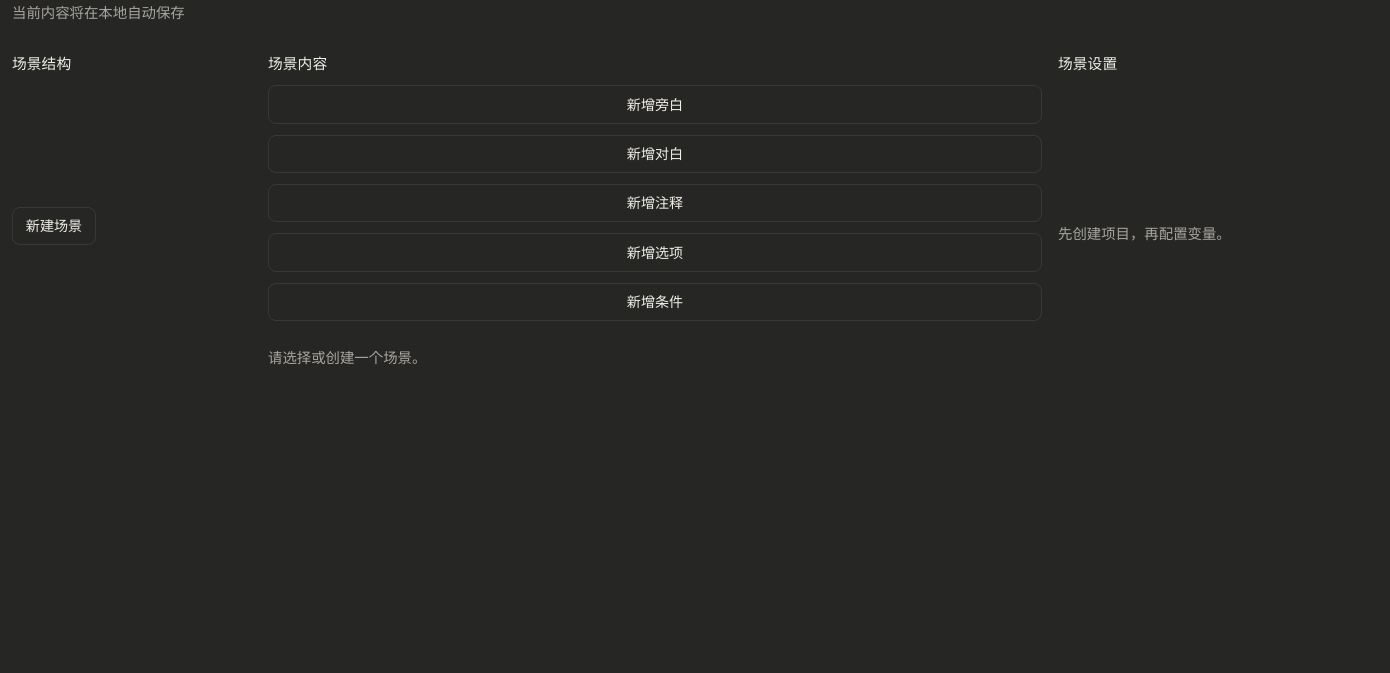
Test: EditorPage › 允许创建场景并追加旁白块
This screenshot has width=1390, height=673.
Click the button "新建场景" at (54, 226), box [12,207,96,245]
(page scrolled)
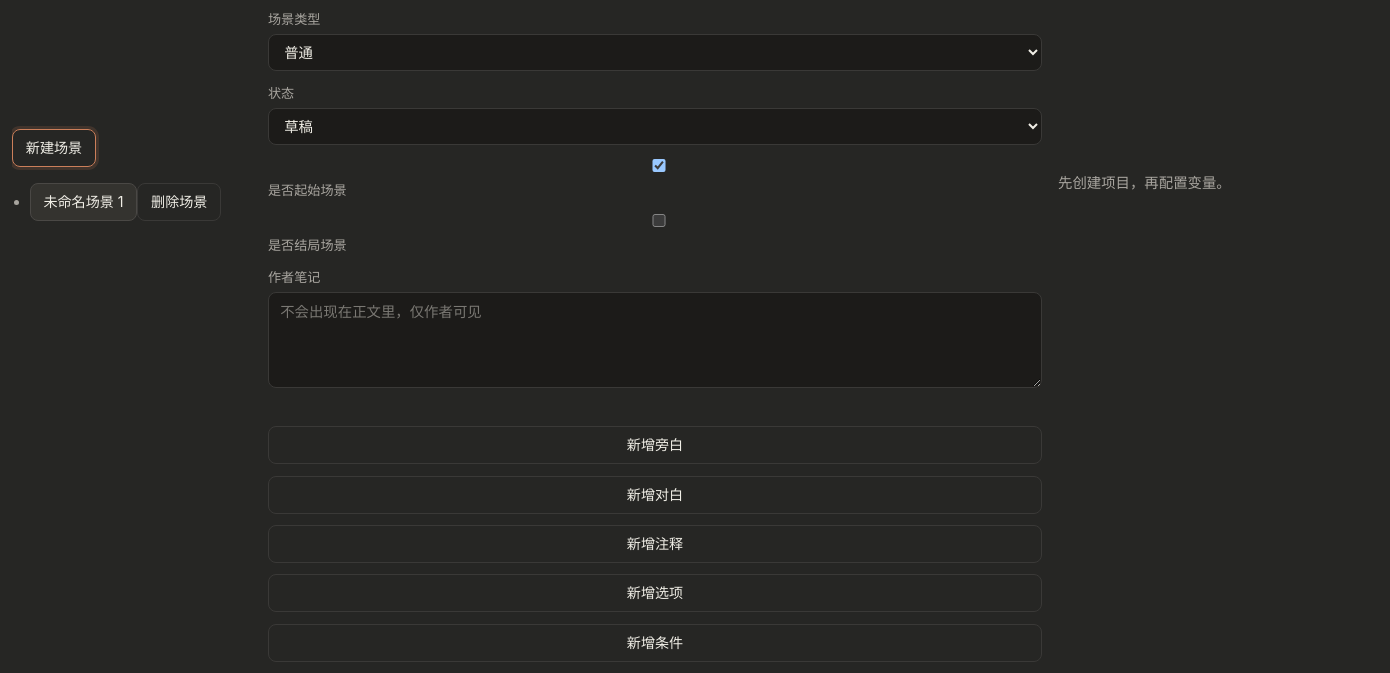
Click the button "新增旁白" at (655, 445), box [268,426,1042,464]
(page scrolled)
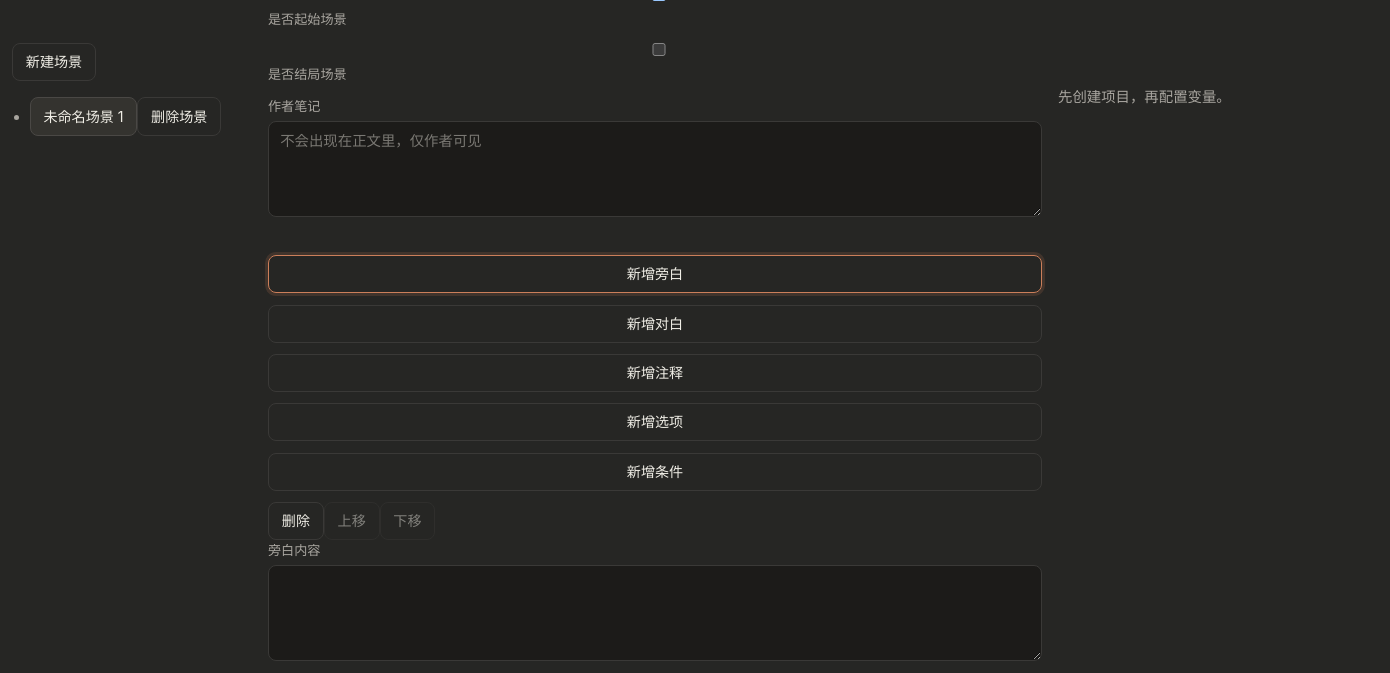
Expected: the button "未命名场景 1" is shown, [30,97,137,136]
Expected: the text box labelled "旁白内容" is shown, [268,565,1042,661]
